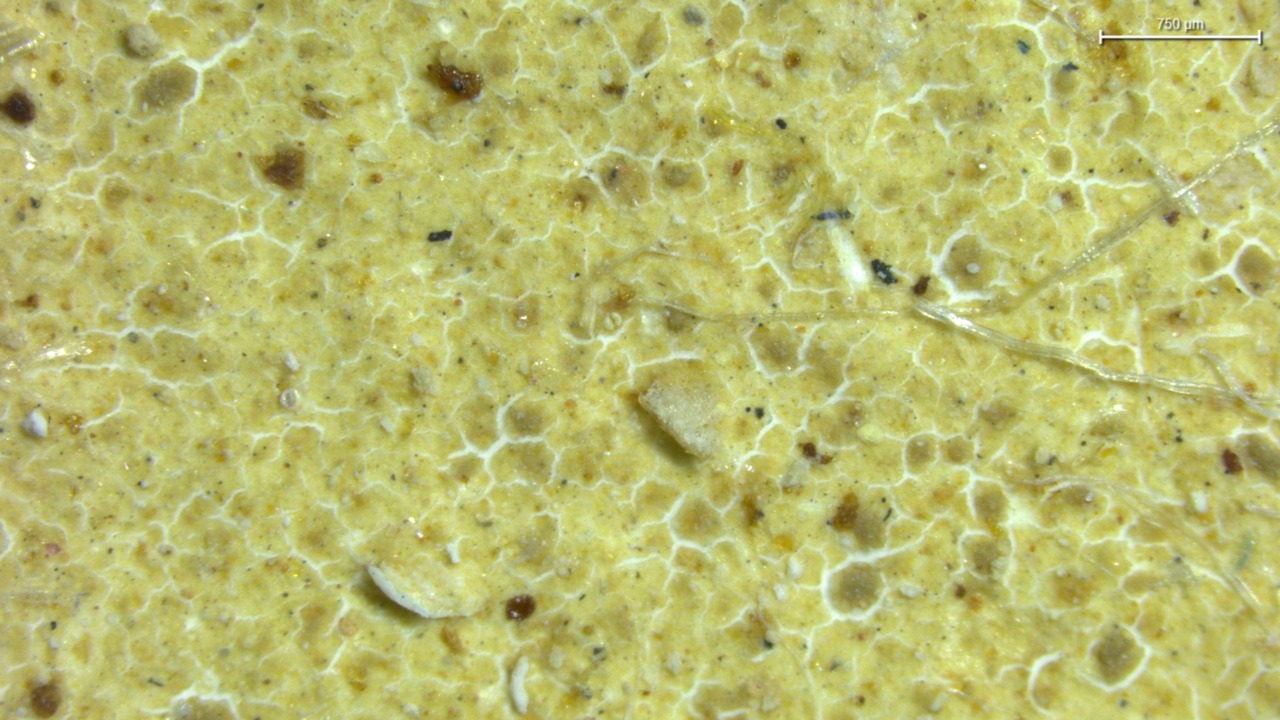microplastic_fragment: (367, 560, 479, 618), (639, 379, 719, 458), (508, 656, 529, 714)
